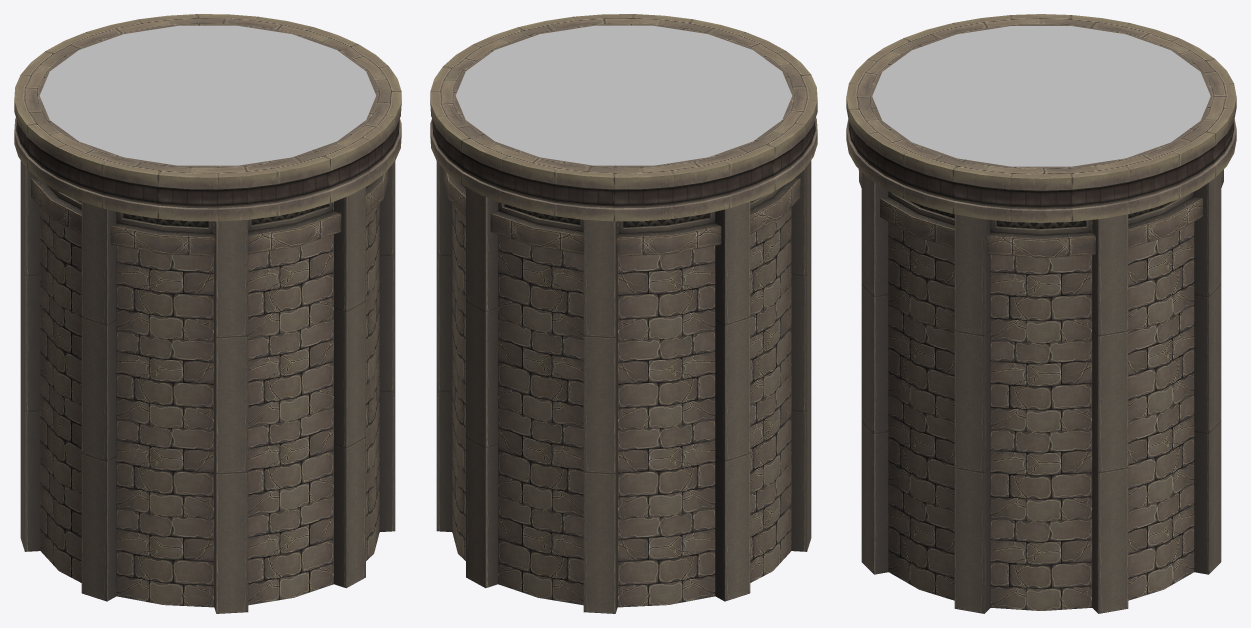
Rendered from Boss_YuanTai_001.FBX.
The picture shows the model from 3 angles, left to right: view 1: azimuth 30°, elevation 25°; view 2: azimuth 150°, elevation 25°; view 3: azimuth 270°, elevation 25°; orthographic projection.
Parts seen in each view (by area): view 1: Boss_YuanTai_001, Boss_YuanTai_002; view 2: Boss_YuanTai_001, Boss_YuanTai_002; view 3: Boss_YuanTai_001, Boss_YuanTai_002.
Boxes of the visible parts, left/top/right/bottom form: Boss_YuanTai_001: left=14, top=14, right=401, bottom=613; Boss_YuanTai_002: left=39, top=25, right=376, bottom=165; Boss_YuanTai_001: left=430, top=14, right=817, bottom=613; Boss_YuanTai_002: left=455, top=25, right=792, bottom=165; Boss_YuanTai_001: left=846, top=14, right=1236, bottom=613; Boss_YuanTai_002: left=872, top=26, right=1210, bottom=166.
Size of the model in its own units: 1353 by 1690 by 1353.
